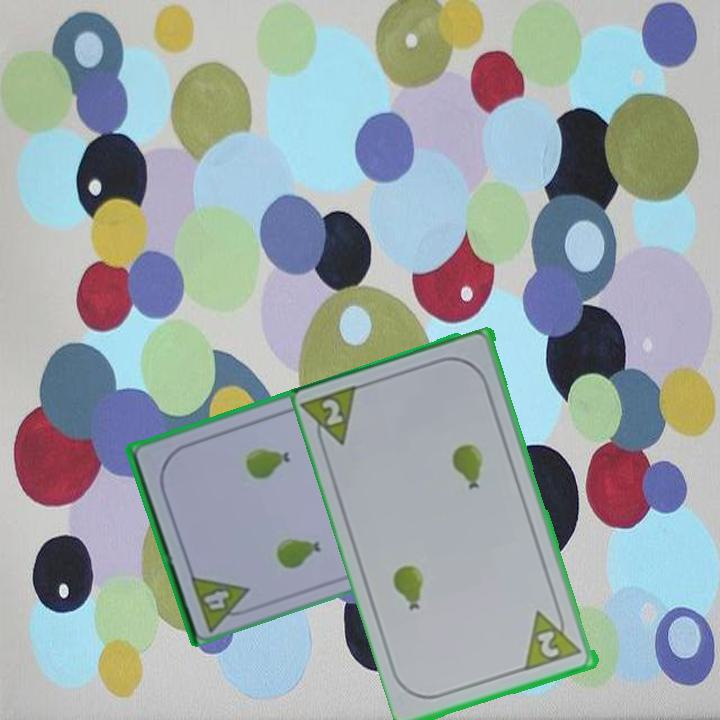2p: (301, 381, 364, 456), (534, 627, 563, 661)
4p: (187, 570, 257, 633)
